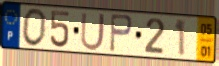1: (174, 18, 187, 59)
2: (144, 17, 167, 57)
5: (49, 9, 71, 49)
O: (21, 7, 48, 49)
P: (108, 13, 134, 55)
U: (79, 11, 107, 53)
